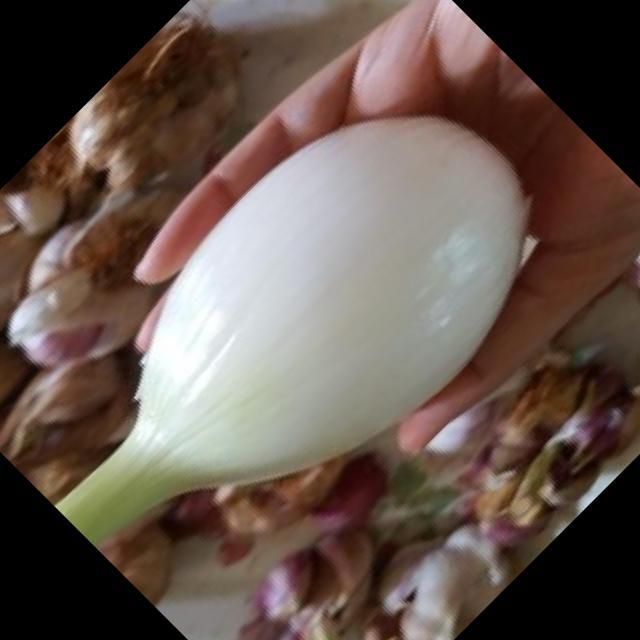Onion: (110, 115, 529, 501)
